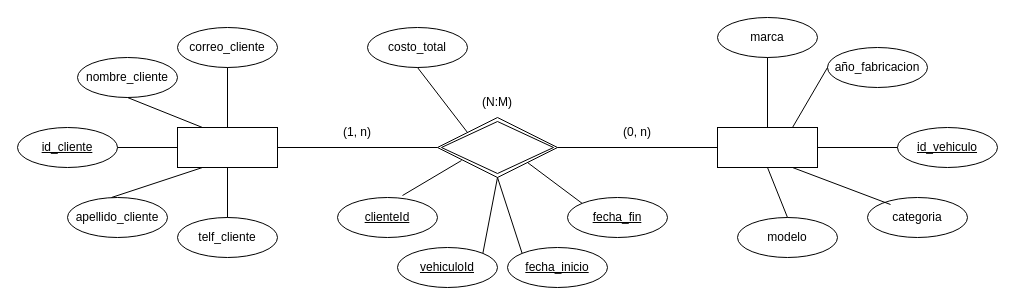
The diagram is 1015 pixels wide and 305 high, and some of its shapes have lost their labels. The centre of each missing label's shape, as x and y in pixels:
Alquiler: the point at 497,147
Cliente: the point at 227,147
Vehiculo: the point at 767,147
